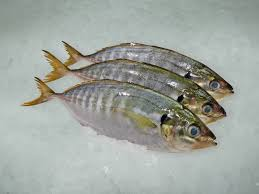Ikan Selar: (21, 80, 219, 156), (62, 37, 243, 102)
